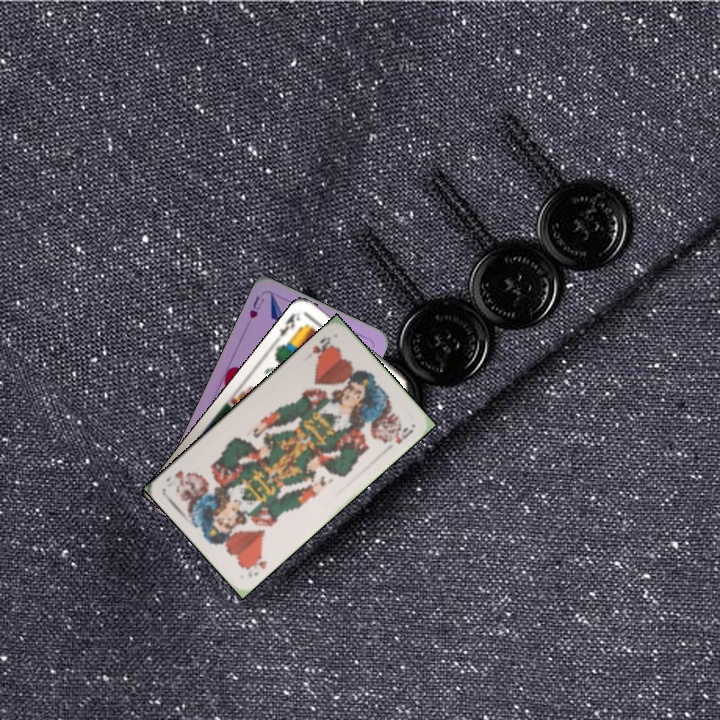EK: (275, 308, 303, 339)
HO: (308, 332, 336, 364), (242, 549, 270, 580)
HU: (245, 292, 267, 321)
